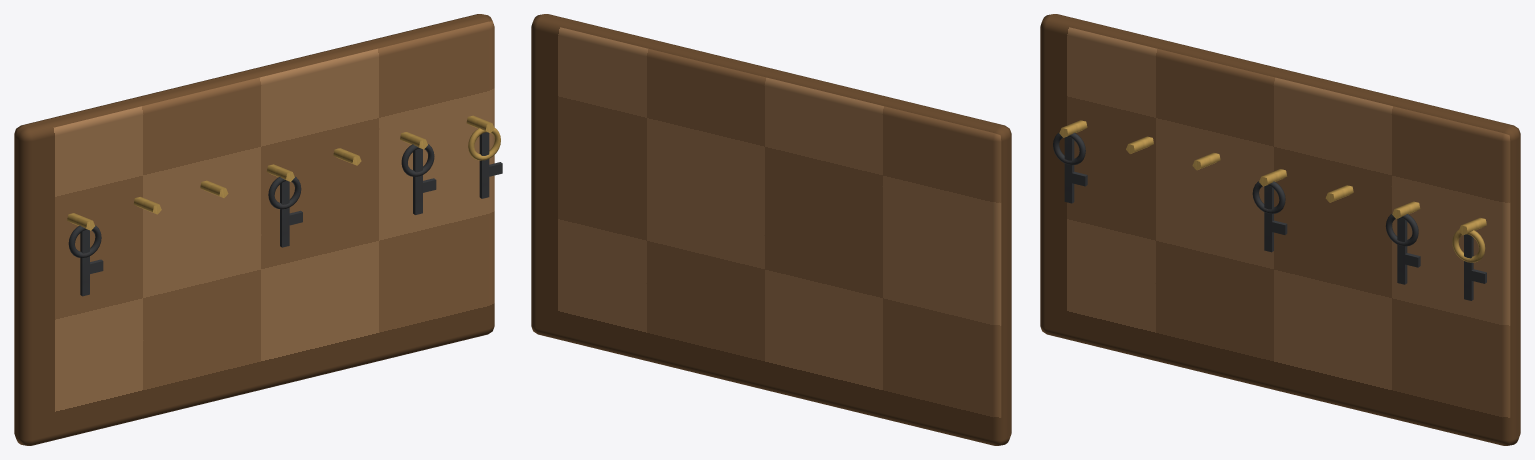
File: keyRack.glb
The picture shows the model from 3 angles, left to right: view 1: azimuth 30°, elevation 25°; view 2: azimuth 150°, elevation 25°; view 3: azimuth 330°, elevation 25°; orthographic projection.
Visible parts, largest first — view 1: dyn_wood_variant, keyRack; view 2: dyn_wood_variant; view 3: dyn_wood_variant, keyRack.
Part boxes in pixels (box(x1,y1,x2,y2)): dyn_wood_variant: box(14, 14, 494, 445); keyRack: box(67, 115, 502, 296); dyn_wood_variant: box(531, 14, 1011, 445); dyn_wood_variant: box(1040, 14, 1520, 445); keyRack: box(1053, 120, 1486, 300).
Bounding box in the file's own units: 0.5001 × 0.3201 × 0.0614.
3 materials, 3 textured.
